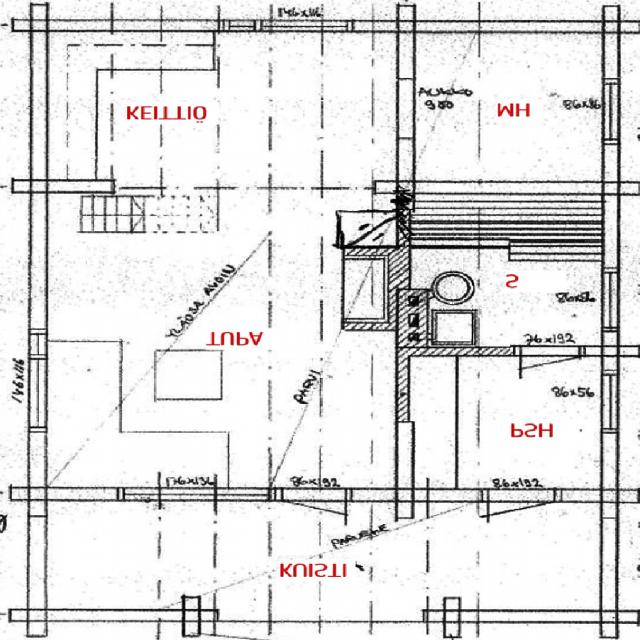door: (488, 488, 555, 554), (282, 488, 346, 552), (520, 346, 581, 403)
